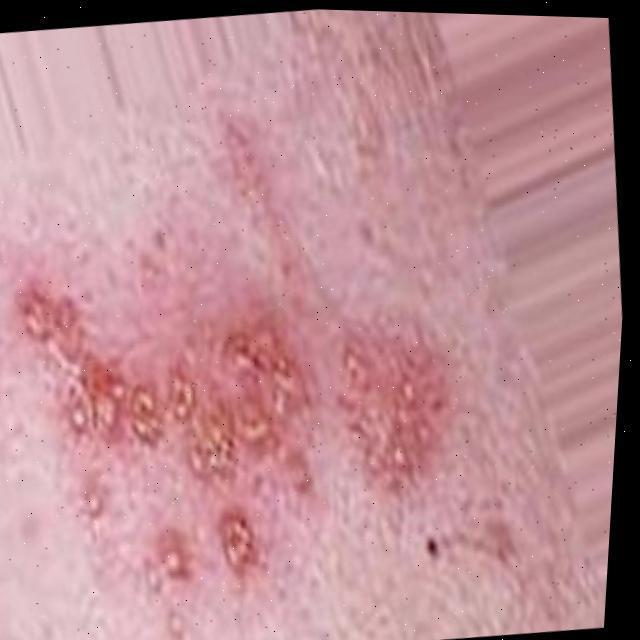Shingles: (0, 228, 477, 602)
